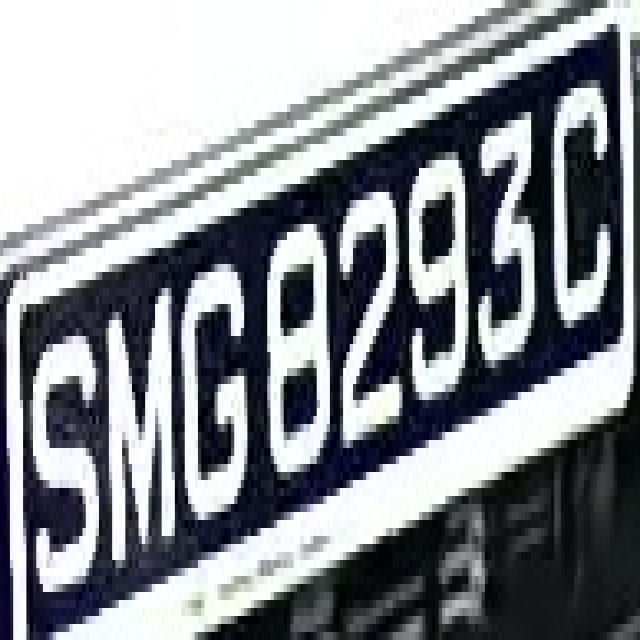2: (333, 176, 419, 472)
3: (468, 80, 538, 384)
8: (264, 224, 333, 480)
9: (399, 136, 475, 440)
C: (544, 64, 620, 360)
G: (178, 264, 254, 544)
M: (102, 304, 182, 584)
S: (16, 312, 109, 640)
